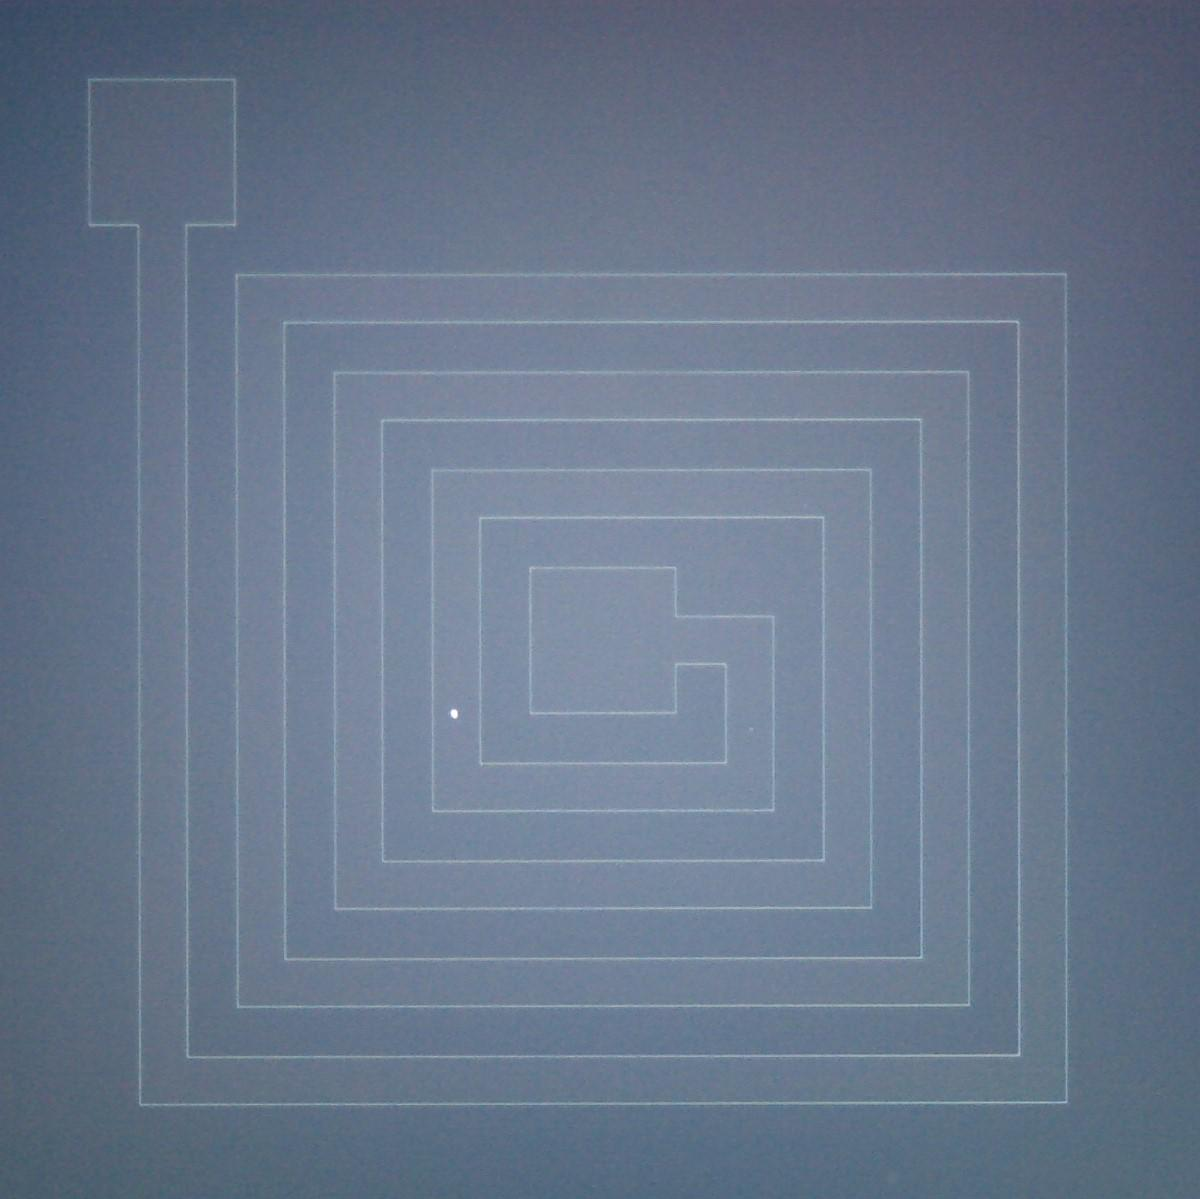B_point: (449, 708, 460, 720)
s_point: (745, 724, 758, 735)
